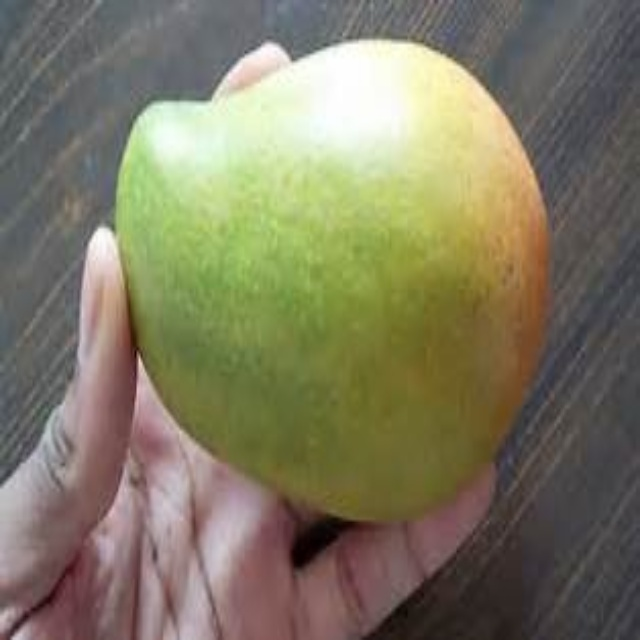mango: (118, 40, 551, 525)
